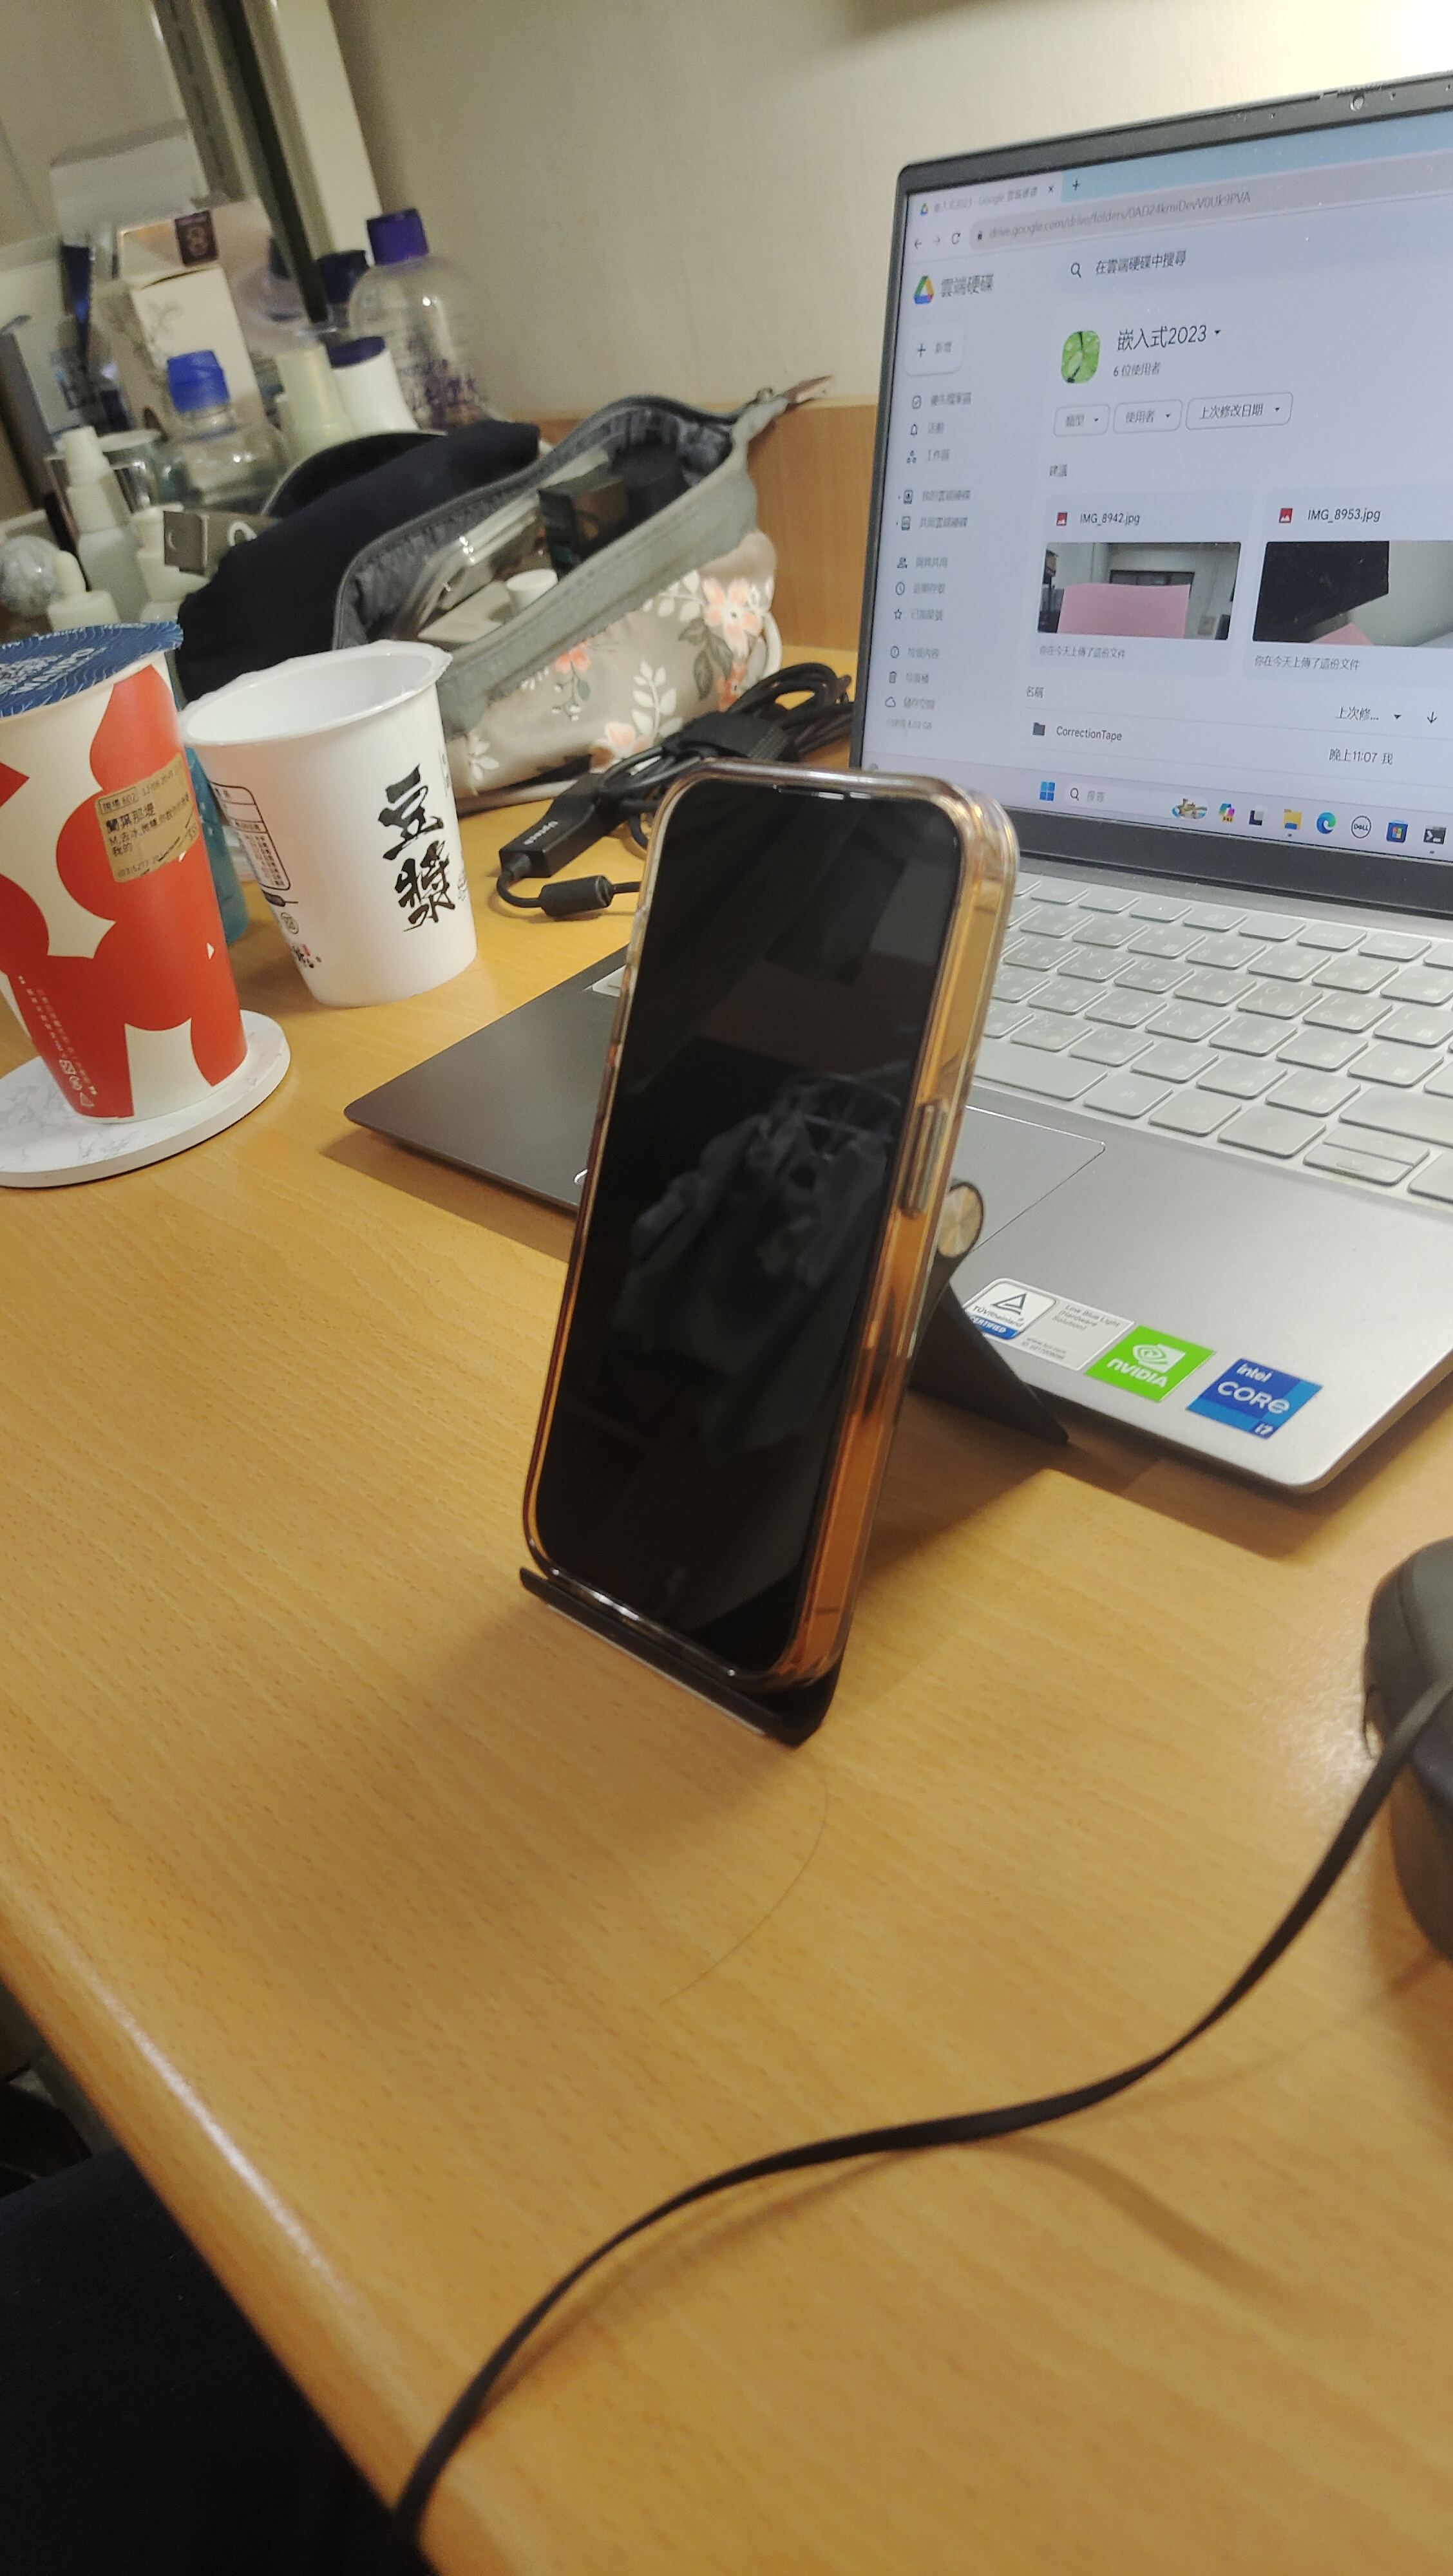iphone: (527, 763, 1023, 1693)
